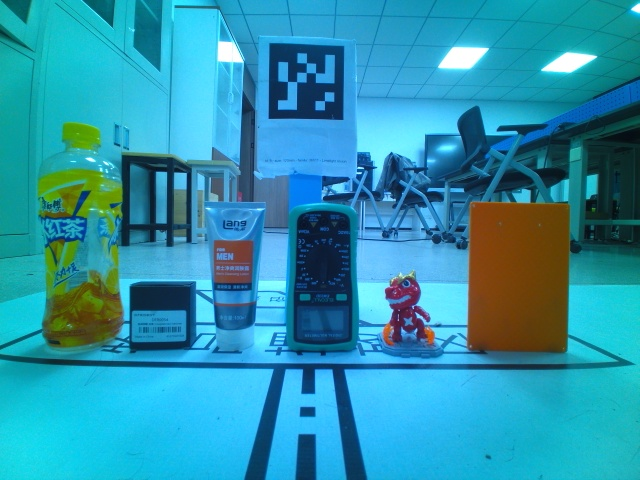banzi: (128, 281, 198, 350)
binghongcha: (379, 268, 445, 358)
dabao: (203, 200, 268, 349)
dianbiao: (36, 121, 124, 355)
hezi: (285, 202, 360, 351)
long: (467, 200, 570, 354)
